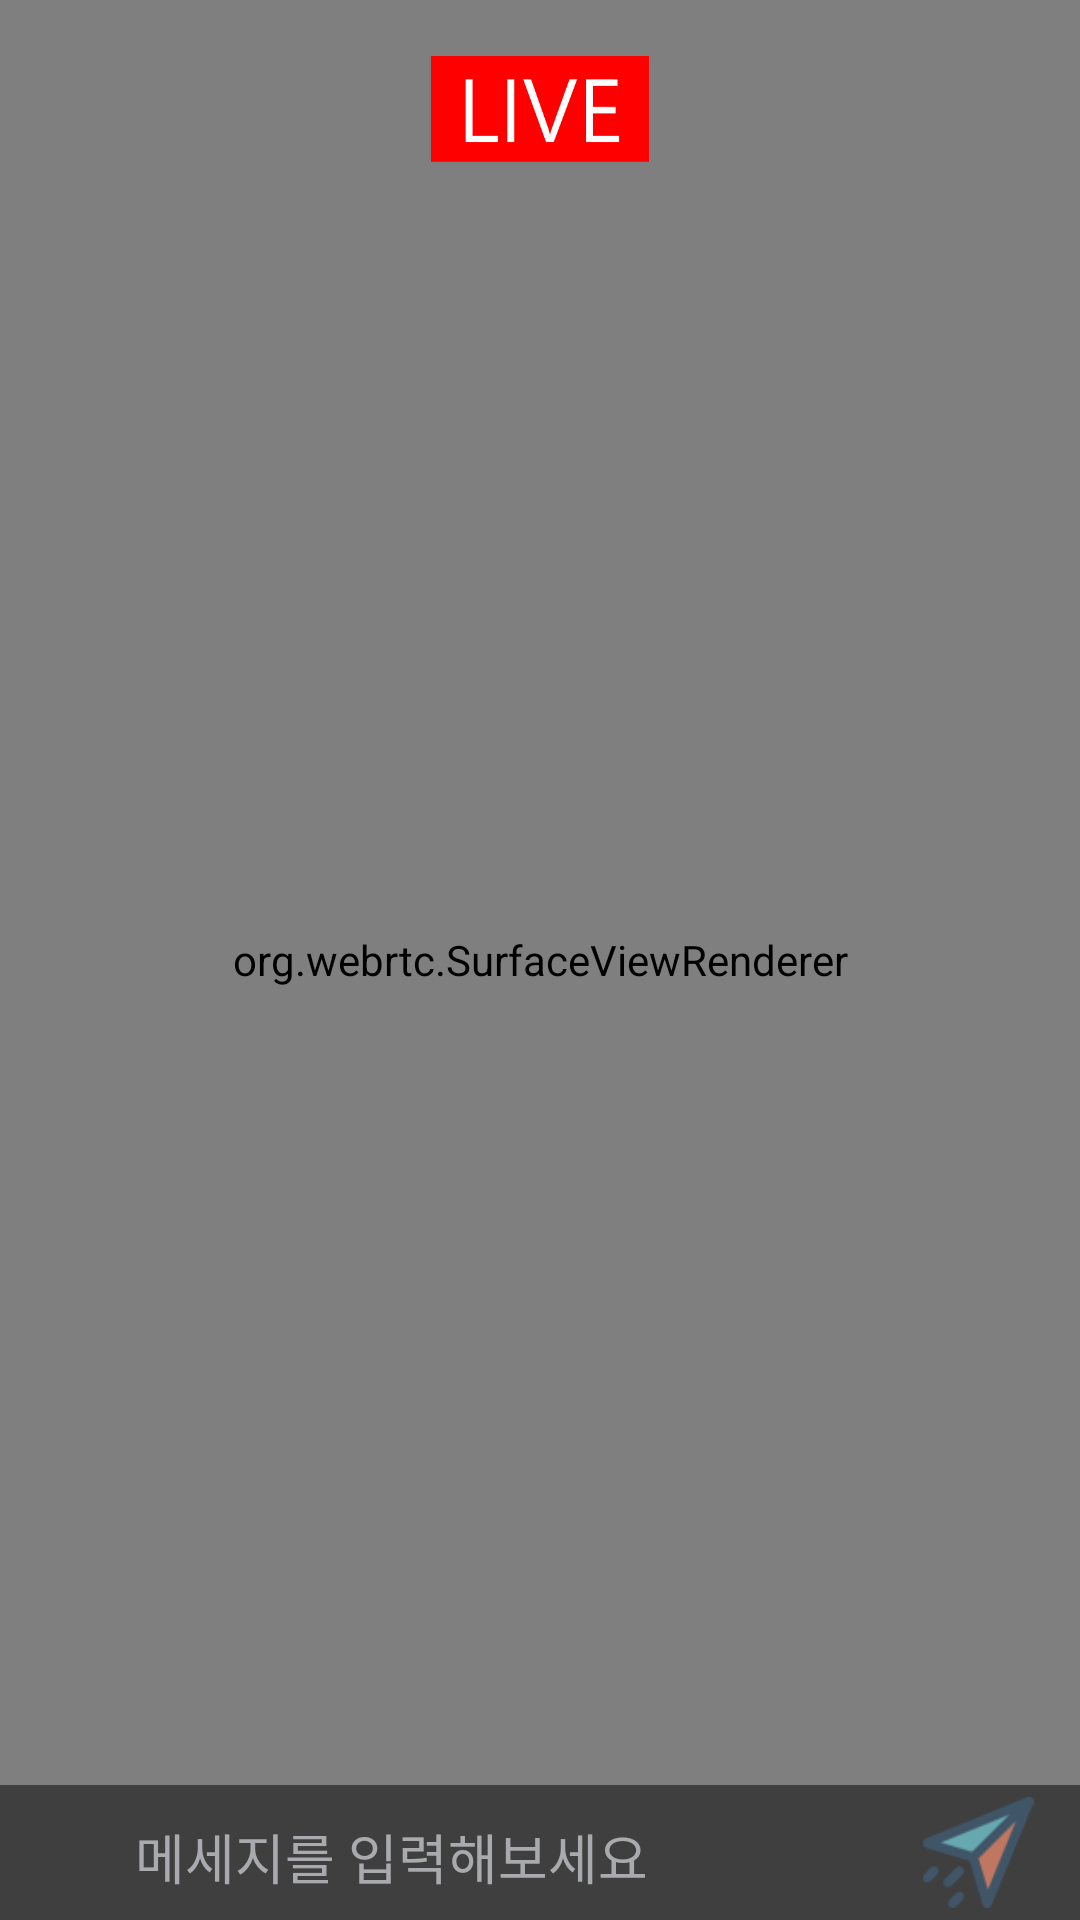

Icons on this 1080px×1920px Android screen, each with the point to tap as [x,y]:
direct: [978,1852]
